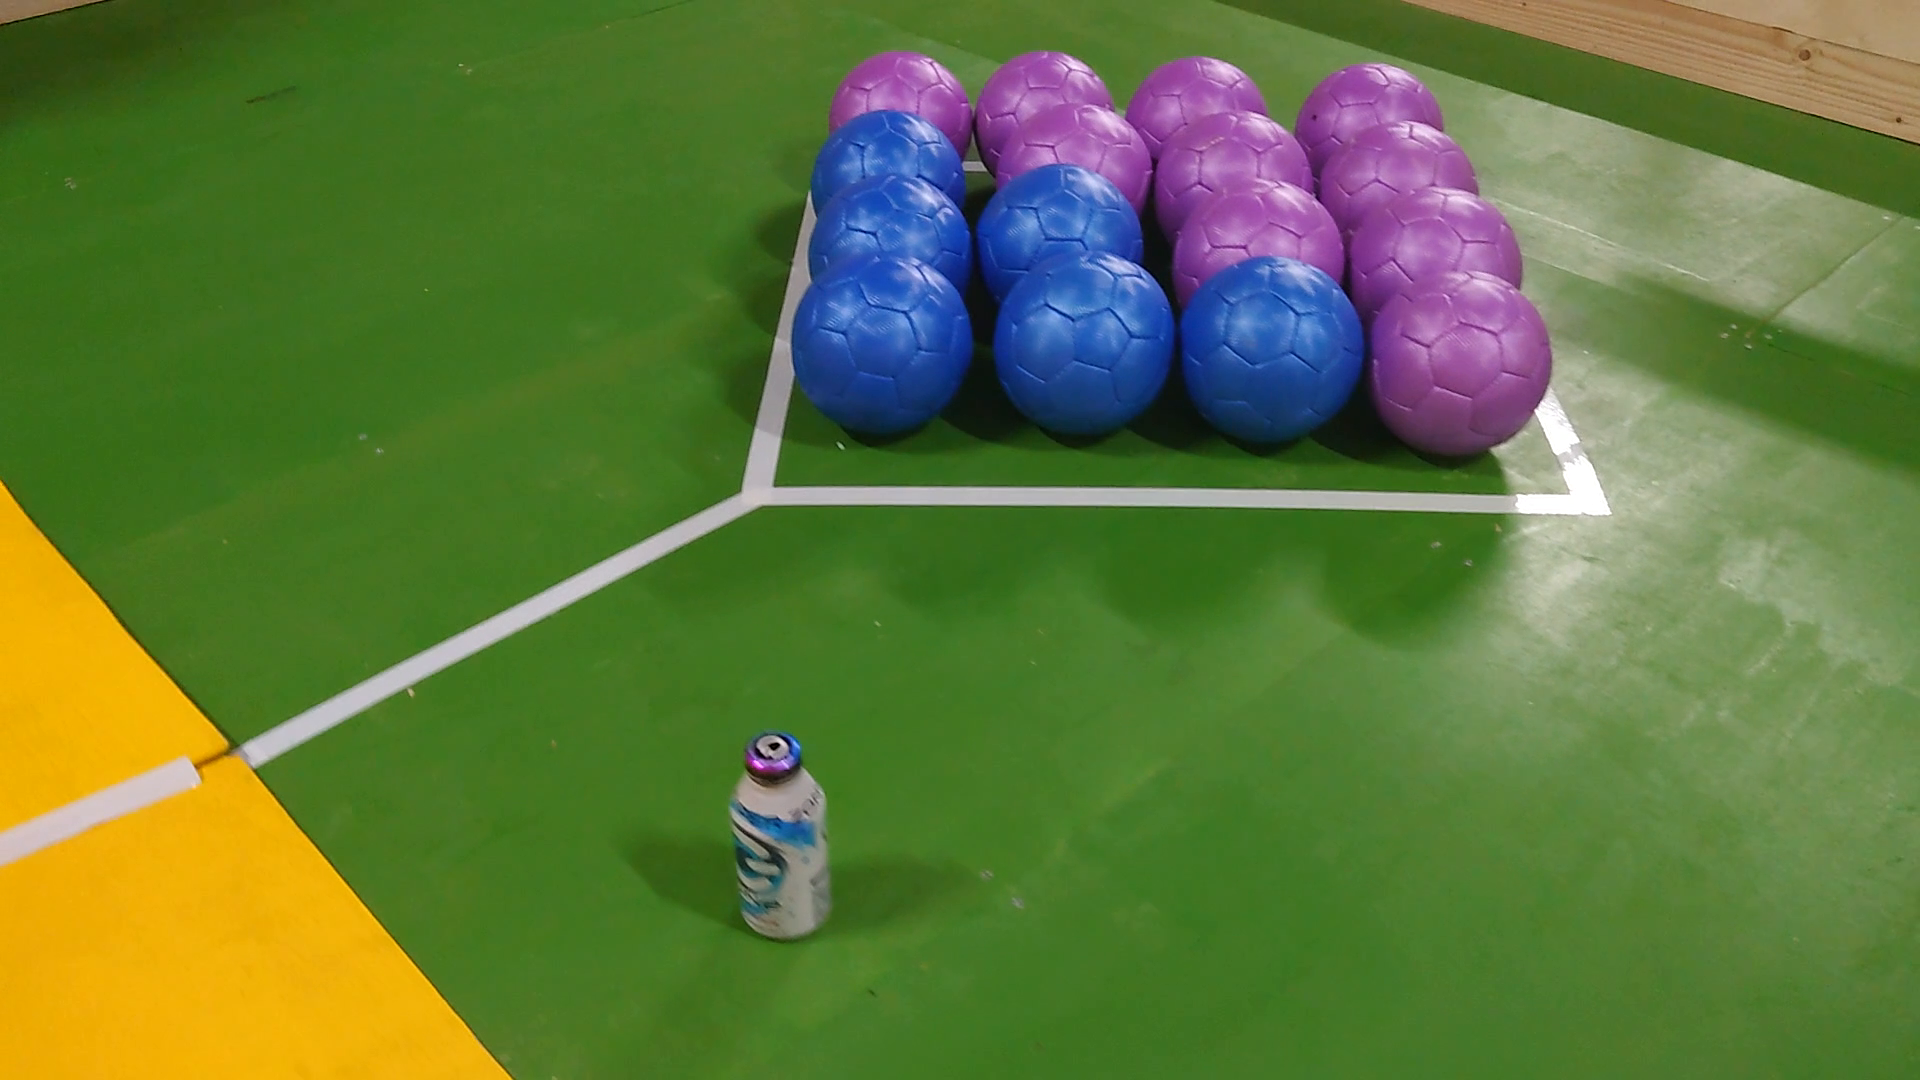blue: (1175, 252, 1365, 451), (993, 248, 1172, 444), (794, 255, 973, 438), (973, 160, 1146, 274), (807, 177, 976, 287), (803, 108, 967, 208)
purple: (1369, 265, 1551, 460), (1166, 173, 1345, 303), (1349, 186, 1528, 301), (1153, 108, 1316, 215), (1312, 117, 1482, 219), (993, 102, 1150, 206), (969, 53, 1117, 150), (829, 49, 973, 144), (1290, 66, 1449, 144), (1126, 55, 1267, 135)
